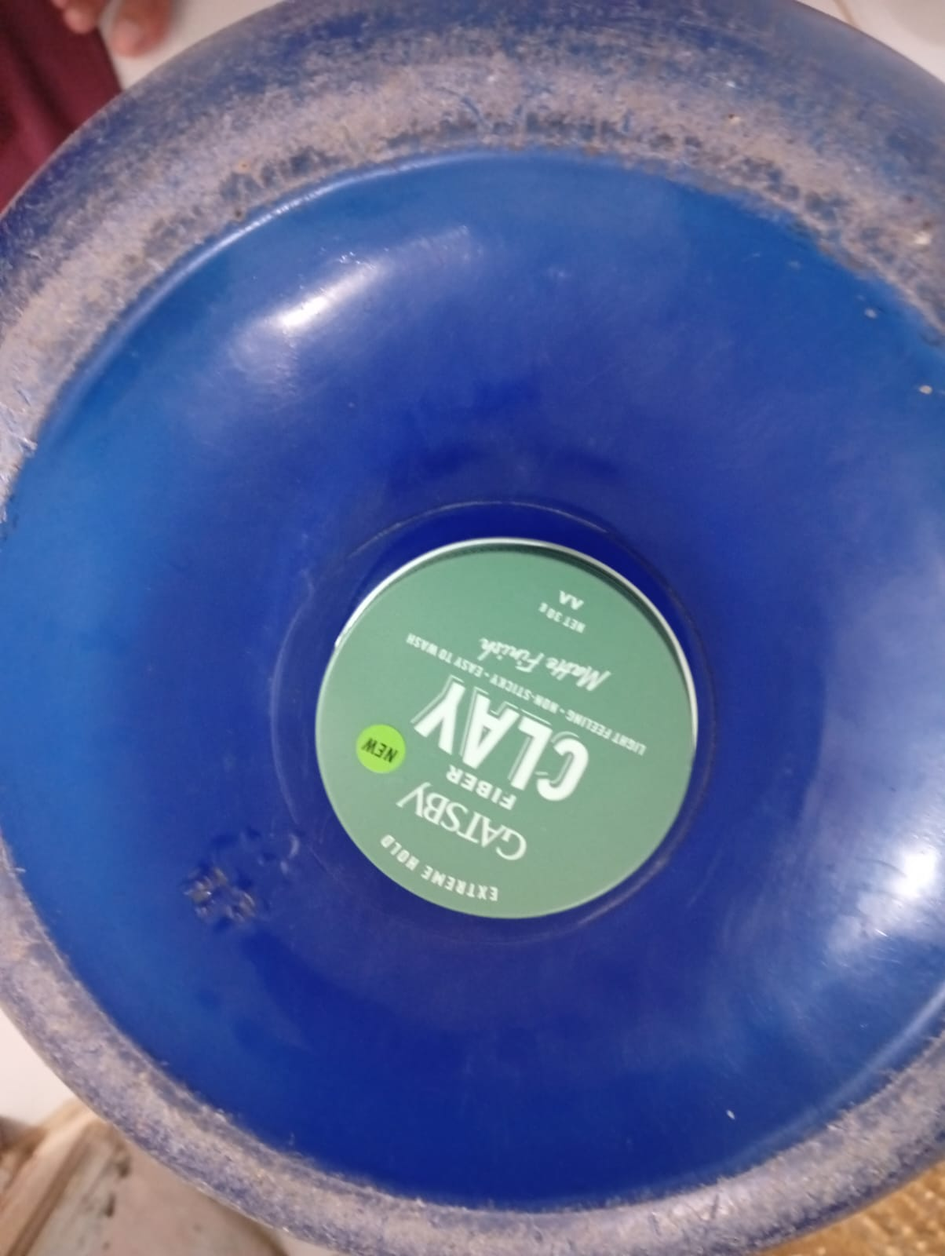Parfum: (296, 526, 722, 933)
